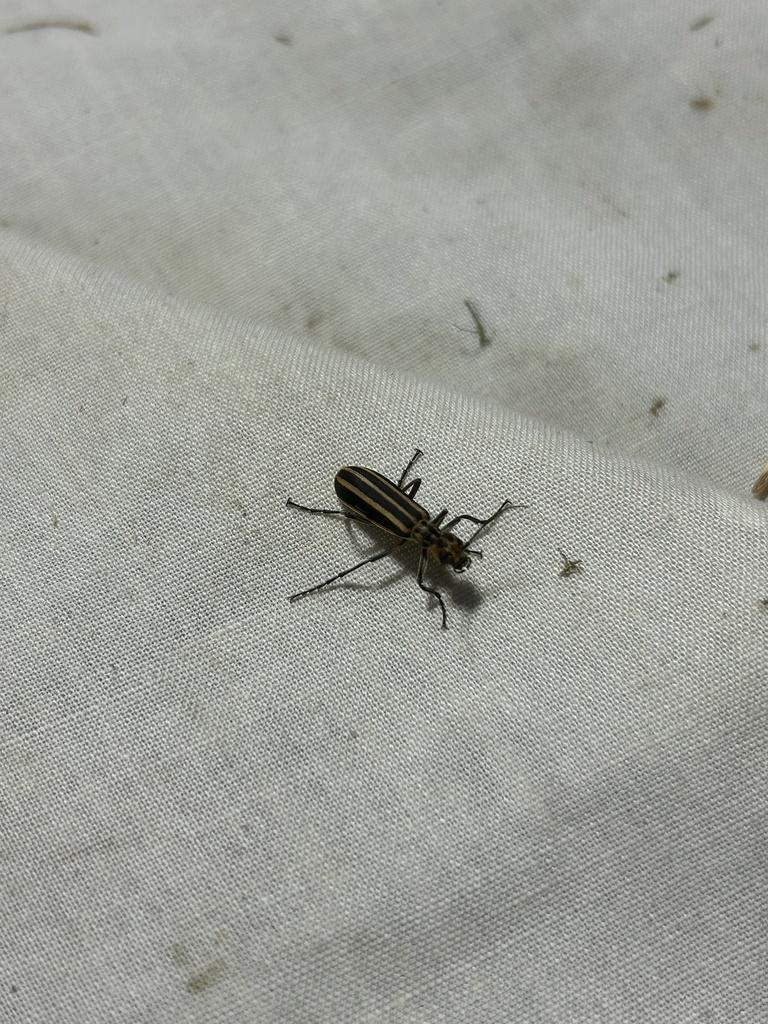blister_beetle: (255, 416, 563, 657)
